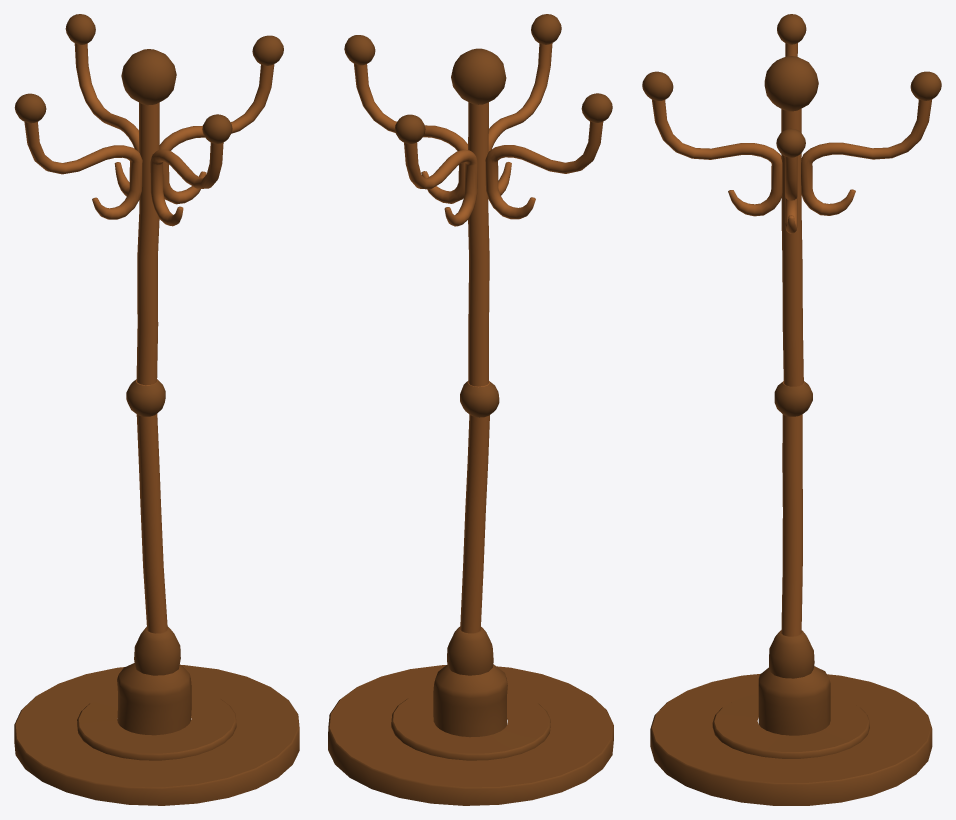
The model's file is Hanger.fbx.
The picture shows the model from 3 angles, left to right: view 1: azimuth 30°, elevation 25°; view 2: azimuth 150°, elevation 25°; view 3: azimuth 270°, elevation 25°; orthographic projection.
Visible parts, largest first — view 1: Hanger; view 2: Hanger; view 3: Hanger.
Part boxes in pixels (box(x1,y1,x2,y2)): Hanger: box(14, 14, 299, 805); Hanger: box(328, 14, 613, 805); Hanger: box(642, 14, 941, 805).
Size of the model in its own units: 0.7464 by 1.87 by 0.7428.
